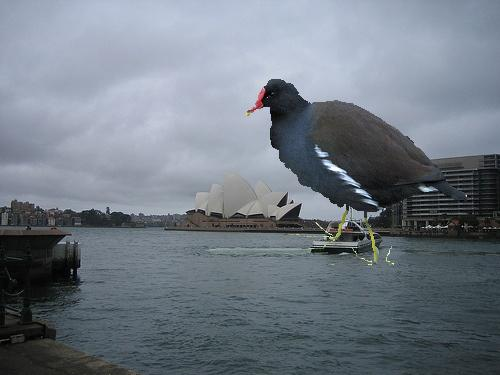tampered: (247, 80, 467, 265)
